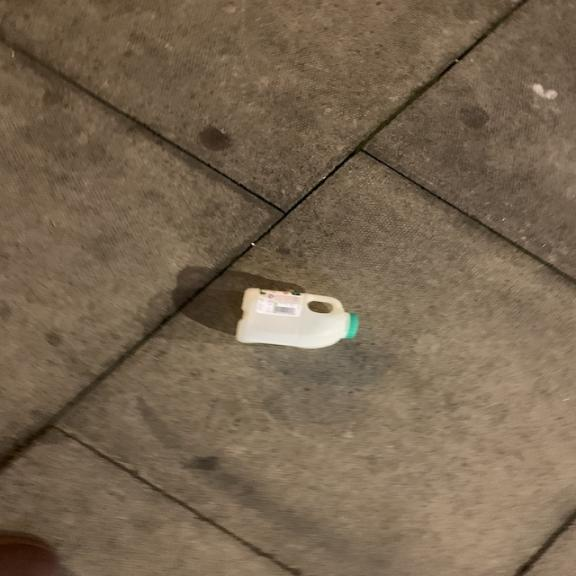Plastik: (238, 283, 362, 354)
